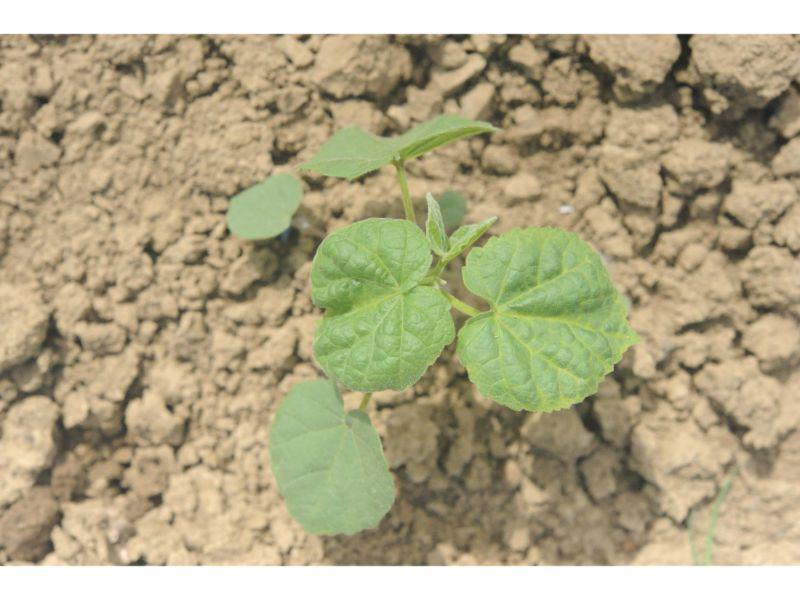velvet: (227, 112, 640, 536)
